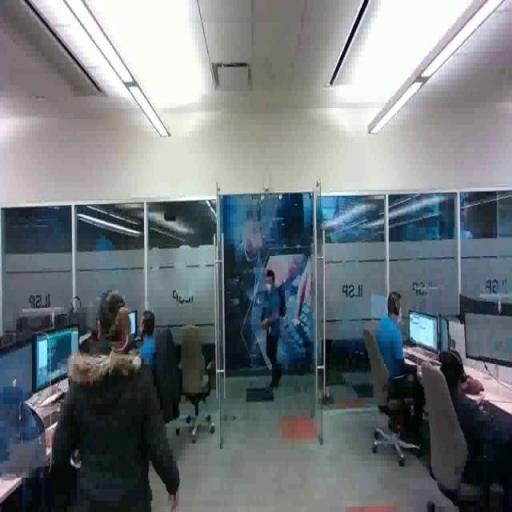person: (55, 280, 181, 512), (436, 345, 512, 512), (369, 290, 428, 456), (261, 264, 288, 389), (134, 307, 174, 381)
